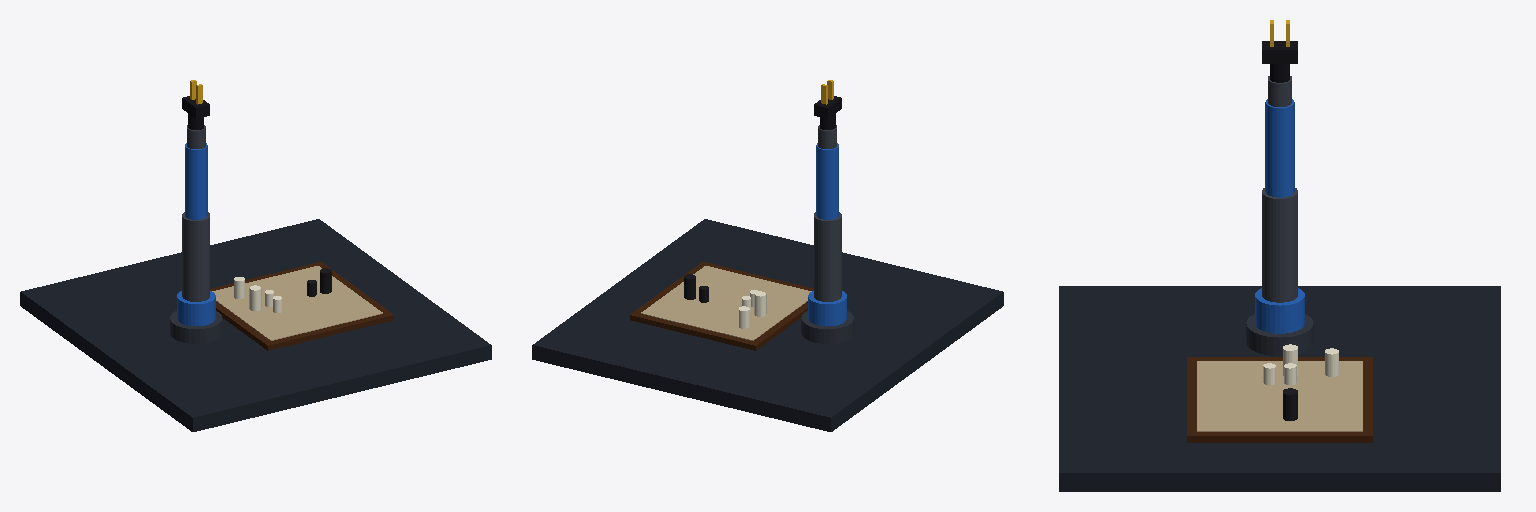
robot.urdf — chess_manipulator_arm:
<?xml version="1.0"?>
<robot name="chess_manipulator_arm">

  <!-- Materials -->
  <material name="table_mat">
    <color rgba="0.16 0.18 0.22 1.0"/>
  </material>
  <material name="board_border_mat">
    <color rgba="0.30 0.18 0.10 1.0"/>
  </material>
  <material name="board_surface_mat">
    <color rgba="0.75 0.68 0.55 1.0"/>
  </material>
  <material name="white_piece_mat">
    <color rgba="0.94 0.92 0.84 1.0"/>
  </material>
  <material name="black_piece_mat">
    <color rgba="0.14 0.14 0.16 1.0"/>
  </material>
  <material name="arm_base_mat">
    <color rgba="0.22 0.24 0.28 1.0"/>
  </material>
  <material name="arm_primary_mat">
    <color rgba="0.18 0.42 0.76 1.0"/>
  </material>
  <material name="arm_accent_mat">
    <color rgba="0.28 0.30 0.34 1.0"/>
  </material>
  <material name="wrist_mat">
    <color rgba="0.12 0.12 0.14 1.0"/>
  </material>
  <material name="finger_mat">
    <color rgba="0.88 0.68 0.18 1.0"/>
  </material>

  <!-- ================= BASE TABLE & CHESS ENVIRONMENT ================= -->
  <link name="table_base">
    <visual>
      <origin xyz="0.15 0.0 -0.02" rpy="0 0 0"/>
      <geometry>
        <box size="0.85 0.85 0.04"/>
      </geometry>
      <material name="table_mat"/>
    </visual>
  </link>

  <!-- Chess Board Frame -->
  <link name="chess_board">
    <visual>
      <origin xyz="0 0 0.007" rpy="0 0 0"/>
      <geometry>
        <box size="0.36 0.36 0.014"/>
      </geometry>
      <material name="board_border_mat"/>
    </visual>
  </link>

  <joint name="table_to_board" type="fixed">
    <parent link="table_base"/>
    <child link="chess_board"/>
    <origin xyz="0.26 0.0 0.0" rpy="0 0 0"/>
  </joint>

  <!-- Chess Board Playfield Surface -->
  <link name="board_surface">
    <visual>
      <origin xyz="0 0 0.001" rpy="0 0 0"/>
      <geometry>
        <box size="0.32 0.32 0.002"/>
      </geometry>
      <material name="board_surface_mat"/>
    </visual>
  </link>

  <joint name="board_to_surface" type="fixed">
    <parent link="chess_board"/>
    <child link="board_surface"/>
    <origin xyz="0 0 0.014" rpy="0 0 0"/>
  </joint>

  <!-- Target White Pawn at e2 with dynamic pick-and-place degrees of freedom -->
  <link name="pawn_e2_carrier">
    <visual>
      <origin xyz="0 0 0.001" rpy="0 0 0"/>
      <geometry>
        <box size="0.002 0.002 0.002"/>
      </geometry>
      <material name="white_piece_mat"/>
    </visual>
  </link>

  <!-- Prismatic joint advancing pawn from e2 to e4 along X (0.00 to 0.08 m) -->
  <joint name="pawn_advance_joint" type="prismatic">
    <parent link="board_surface"/>
    <child link="pawn_e2_carrier"/>
    <origin xyz="-0.06 0.02 0.002" rpy="0 0 0"/>
    <axis xyz="1 0 0"/>
    <limit lower="-0.02" upper="0.12" effort="10.0" velocity="0.5"/>
  </joint>

  <!-- Target White Pawn piece -->
  <link name="piece_pawn_e2">
    <visual>
      <origin xyz="0 0 0.018" rpy="0 0 0"/>
      <geometry>
        <cylinder radius="0.012" length="0.036"/>
      </geometry>
      <material name="white_piece_mat"/>
    </visual>
  </link>

  <!-- Prismatic joint lifting pawn vertically along Z (0.00 to 0.10 m) -->
  <joint name="pawn_lift_joint" type="prismatic">
    <parent link="pawn_e2_carrier"/>
    <child link="piece_pawn_e2"/>
    <origin xyz="0 0 0" rpy="0 0 0"/>
    <axis xyz="0 0 1"/>
    <limit lower="0.00" upper="0.15" effort="10.0" velocity="0.5"/>
  </joint>

  <!-- Target White Pawn at d2 (x = -0.06, y = -0.02 on board) -->
  <link name="piece_pawn_d2">
    <visual>
      <origin xyz="0 0 0.018" rpy="0 0 0"/>
      <geometry>
        <cylinder radius="0.012" length="0.036"/>
      </geometry>
      <material name="white_piece_mat"/>
    </visual>
  </link>

  <joint name="board_to_pawn_d2" type="fixed">
    <parent link="board_surface"/>
    <child link="piece_pawn_d2"/>
    <origin xyz="-0.06 -0.02 0.002" rpy="0 0 0"/>
  </joint>

  <!-- Opposing Black Pawn at e7 (x = 0.06, y = 0.02 on board) -->
  <link name="piece_pawn_e7">
    <visual>
      <origin xyz="0 0 0.018" rpy="0 0 0"/>
      <geometry>
        <cylinder radius="0.012" length="0.036"/>
      </geometry>
      <material name="black_piece_mat"/>
    </visual>
  </link>

  <joint name="board_to_pawn_e7" type="fixed">
    <parent link="board_surface"/>
    <child link="piece_pawn_e7"/>
    <origin xyz="0.06 0.02 0.002" rpy="0 0 0"/>
  </joint>

  <!-- White King at e1 (x = -0.10, y = 0.02 on board) -->
  <link name="piece_king_white">
    <visual>
      <origin xyz="0 0 0.028" rpy="0 0 0"/>
      <geometry>
        <cylinder radius="0.015" length="0.056"/>
      </geometry>
      <material name="white_piece_mat"/>
    </visual>
  </link>

  <joint name="board_to_king_white" type="fixed">
    <parent link="board_surface"/>
    <child link="piece_king_white"/>
    <origin xyz="-0.10 0.02 0.002" rpy="0 0 0"/>
  </joint>

  <!-- Black King at e8 (x = 0.10, y = 0.02 on board) -->
  <link name="piece_king_black">
    <visual>
      <origin xyz="0 0 0.028" rpy="0 0 0"/>
      <geometry>
        <cylinder radius="0.015" length="0.056"/>
      </geometry>
      <material name="black_piece_mat"/>
    </visual>
  </link>

  <joint name="board_to_king_black" type="fixed">
    <parent link="board_surface"/>
    <child link="piece_king_black"/>
    <origin xyz="0.10 0.02 0.002" rpy="0 0 0"/>
  </joint>

  <!-- White Knight at g1 (x = -0.10, y = 0.10 on board) -->
  <link name="piece_knight_white">
    <visual>
      <origin xyz="0 0 0.024" rpy="0 0 0"/>
      <geometry>
        <cylinder radius="0.014" length="0.048"/>
      </geometry>
      <material name="white_piece_mat"/>
    </visual>
  </link>

  <joint name="board_to_knight_white" type="fixed">
    <parent link="board_surface"/>
    <child link="piece_knight_white"/>
    <origin xyz="-0.10 0.10 0.002" rpy="0 0 0"/>
  </joint>

  <!-- ================= ARTICULATED ROBOT ARM ================= -->
  <!-- Arm Pedestal Base Mount -->
  <link name="arm_base_link">
    <visual>
      <origin xyz="0 0 0.02" rpy="0 0 0"/>
      <geometry>
        <cylinder radius="0.065" length="0.04"/>
      </geometry>
      <material name="arm_base_mat"/>
    </visual>
  </link>

  <joint name="table_to_arm_base" type="fixed">
    <parent link="table_base"/>
    <child link="arm_base_link"/>
    <origin xyz="-0.02 0.0 0.0" rpy="0 0 0"/>
  </joint>

  <!-- Joint 1: Base Turntable Yaw (Z-axis) -->
  <link name="shoulder_link">
    <visual>
      <origin xyz="0 0 0.03" rpy="0 0 0"/>
      <geometry>
        <cylinder radius="0.048" length="0.06"/>
      </geometry>
      <material name="arm_primary_mat"/>
    </visual>
  </link>

  <joint name="arm_base_yaw" type="revolute">
    <parent link="arm_base_link"/>
    <child link="shoulder_link"/>
    <origin xyz="0 0 0.04" rpy="0 0 0"/>
    <axis xyz="0 0 1"/>
    <limit lower="-3.14159" upper="3.14159" effort="50.0" velocity="2.0"/>
  </joint>

  <!-- Joint 2: Shoulder Pitch (Y-axis) -->
  <link name="upper_arm_link">
    <visual>
      <origin xyz="0 0 0.11" rpy="0 0 0"/>
      <geometry>
        <cylinder radius="0.035" length="0.22"/>
      </geometry>
      <material name="arm_accent_mat"/>
    </visual>
  </link>

  <joint name="shoulder_pitch" type="revolute">
    <parent link="shoulder_link"/>
    <child link="upper_arm_link"/>
    <origin xyz="0 0 0.06" rpy="0 0 0"/>
    <axis xyz="0 1 0"/>
    <limit lower="-1.5708" upper="1.5708" effort="40.0" velocity="2.0"/>
  </joint>

  <!-- Joint 3: Elbow Pitch (Y-axis) -->
  <link name="forearm_link">
    <visual>
      <origin xyz="0 0 0.095" rpy="0 0 0"/>
      <geometry>
        <cylinder radius="0.028" length="0.19"/>
      </geometry>
      <material name="arm_primary_mat"/>
    </visual>
  </link>

  <joint name="elbow_pitch" type="revolute">
    <parent link="upper_arm_link"/>
    <child link="forearm_link"/>
    <origin xyz="0 0 0.22" rpy="0 0 0"/>
    <axis xyz="0 1 0"/>
    <limit lower="-2.3562" upper="2.3562" effort="30.0" velocity="2.5"/>
  </joint>

  <!-- Joint 4: Wrist Pitch (Y-axis) -->
  <link name="wrist_pitch_link">
    <visual>
      <origin xyz="0 0 0.025" rpy="0 0 0"/>
      <geometry>
        <cylinder radius="0.024" length="0.05"/>
      </geometry>
      <material name="arm_accent_mat"/>
    </visual>
  </link>

  <joint name="wrist_pitch" type="revolute">
    <parent link="forearm_link"/>
    <child link="wrist_pitch_link"/>
    <origin xyz="0 0 0.19" rpy="0 0 0"/>
    <axis xyz="0 1 0"/>
    <limit lower="-2.3562" upper="2.3562" effort="20.0" velocity="3.0"/>
  </joint>

  <!-- Joint 5: Wrist Roll (X-axis) -->
  <link name="wrist_roll_link">
    <visual>
      <origin xyz="0 0 0.02" rpy="0 0 0"/>
      <geometry>
        <cylinder radius="0.020" length="0.04"/>
      </geometry>
      <material name="wrist_mat"/>
    </visual>
  </link>

  <joint name="wrist_roll" type="revolute">
    <parent link="wrist_pitch_link"/>
    <child link="wrist_roll_link"/>
    <origin xyz="0 0 0.05" rpy="0 0 0"/>
    <axis xyz="1 0 0"/>
    <limit lower="-3.14159" upper="3.14159" effort="15.0" velocity="3.5"/>
  </joint>

  <!-- Joint 6: Gripper Base Palm -->
  <link name="gripper_base">
    <visual>
      <origin xyz="0 0 0.015" rpy="0 0 0"/>
      <geometry>
        <box size="0.04 0.07 0.03"/>
      </geometry>
      <material name="wrist_mat"/>
    </visual>
  </link>

  <joint name="wrist_to_gripper" type="fixed">
    <parent link="wrist_roll_link"/>
    <child link="gripper_base"/>
    <origin xyz="0 0 0.04" rpy="0 0 0"/>
  </joint>

  <!-- Joint 7: Left Prismatic Gripper Jaw (moves along +Y) -->
  <link name="gripper_left_finger">
    <visual>
      <origin xyz="0 0 0.025" rpy="0 0 0"/>
      <geometry>
        <box size="0.014 0.008 0.05"/>
      </geometry>
      <material name="finger_mat"/>
    </visual>
  </link>

  <joint name="gripper_left_joint" type="prismatic">
    <parent link="gripper_base"/>
    <child link="gripper_left_finger"/>
    <origin xyz="0 0.015 0.03" rpy="0 0 0"/>
    <axis xyz="0 1 0"/>
    <limit lower="0.000" upper="0.025" effort="20.0" velocity="0.1"/>
  </joint>

  <!-- Joint 8: Right Prismatic Gripper Jaw (moves along -Y) -->
  <link name="gripper_right_finger">
    <visual>
      <origin xyz="0 0 0.025" rpy="0 0 0"/>
      <geometry>
        <box size="0.014 0.008 0.05"/>
      </geometry>
      <material name="finger_mat"/>
    </visual>
  </link>

  <joint name="gripper_right_joint" type="prismatic">
    <parent link="gripper_base"/>
    <child link="gripper_right_finger"/>
    <origin xyz="0 -0.015 0.03" rpy="0 0 0"/>
    <axis xyz="0 1 0"/>
    <limit lower="-0.025" upper="0.000" effort="20.0" velocity="0.1"/>
  </joint>

</robot>

--- What the picture shows (computed from the rendered views, not written in the file) ---
The picture shows the robot from 3 angles, left to right: view 1: azimuth 30°, elevation 25°; view 2: azimuth 150°, elevation 25°; view 3: azimuth 270°, elevation 25°; orthographic projection.
Model chess_manipulator_arm with 19 links and 18 joints (5 revolute, 4 prismatic, 9 fixed), rooted at table_base, posed every joint at zero.
Visible links, largest first — view 1: table_base, board_surface, chess_board, upper_arm_link, forearm_link, arm_base_link, shoulder_link; view 2: table_base, board_surface, chess_board, upper_arm_link, forearm_link, arm_base_link, shoulder_link; view 3: table_base, board_surface, chess_board, upper_arm_link, forearm_link, shoulder_link, arm_base_link, gripper_base, wrist_pitch_link.
Boxes of the visible links, <box> form: table_base: <box>20,219,491,431</box>; board_surface: <box>212,266,382,340</box>; chess_board: <box>210,262,393,350</box>; upper_arm_link: <box>182,212,209,301</box>; forearm_link: <box>185,143,207,219</box>; arm_base_link: <box>170,311,222,343</box>; shoulder_link: <box>177,291,215,325</box>; table_base: <box>532,219,1003,431</box>; board_surface: <box>641,266,811,340</box>; chess_board: <box>630,262,813,350</box>; upper_arm_link: <box>814,212,841,301</box>; forearm_link: <box>816,143,838,219</box>; arm_base_link: <box>801,311,853,343</box>; shoulder_link: <box>808,291,846,325</box>; table_base: <box>1059,286,1500,491</box>; board_surface: <box>1197,361,1362,431</box>; chess_board: <box>1187,357,1372,442</box>; upper_arm_link: <box>1262,188,1297,302</box>; forearm_link: <box>1265,99,1294,197</box>; shoulder_link: <box>1255,288,1304,333</box>; arm_base_link: <box>1246,314,1313,355</box>; gripper_base: <box>1262,41,1297,63</box>; wrist_pitch_link: <box>1268,76,1291,106</box>.
Size in the robot's own frame: 0.85 by 0.85 by 0.72 metres.
Geometry: primitives only (box / cylinder / sphere), no mesh files.
